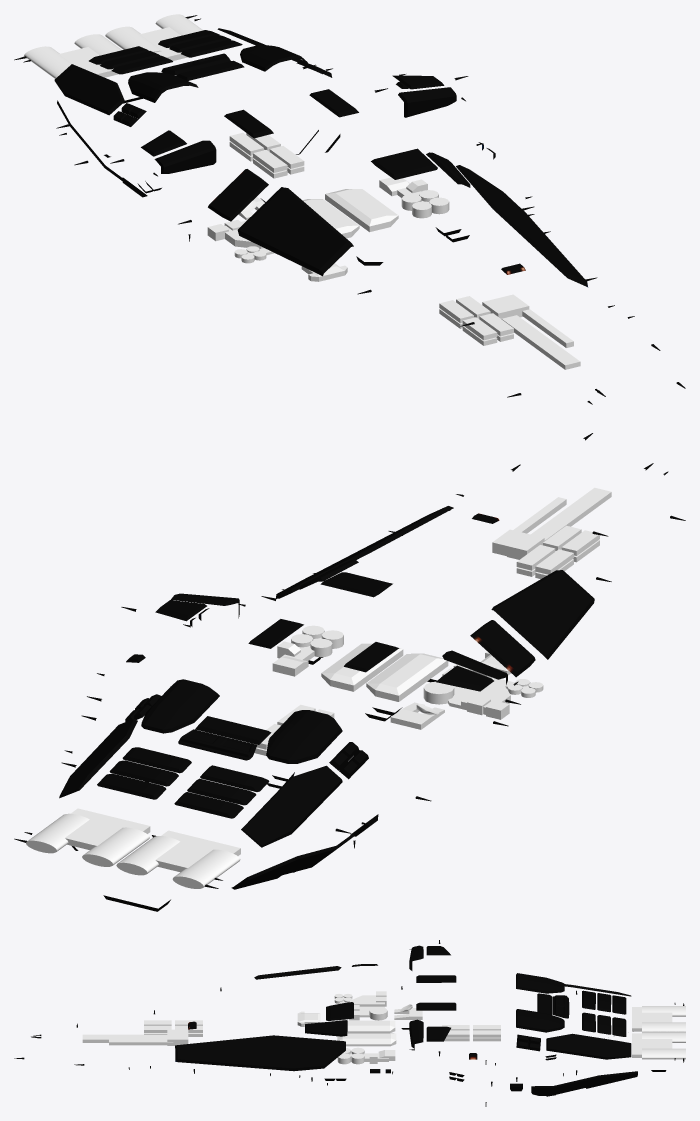
The model's file is hgn_fs_carr_04.glb.
The picture shows the model from 3 angles, top to bottom: view 1: azimuth 30°, elevation 25°; view 2: azimuth 150°, elevation 25°; view 3: azimuth 270°, elevation 25°; orthographic projection. The views are drawn at different scales.
Parts seen in each view (by area): view 1: hgn_fs_carrier_04_LOD0, StandardScanner_1_1, StandardEngine_1_3 (3), StandardEngine_1_3 (1), FleetReadyHangar_1_2, Refinery_1_2 (1), Factory_1_3 (1)!!!!!!!!, Storage_1_1 (5), Storage_1_1 (7), Storage_1_1 (6), FleetReadyHangar_1_2 (1), Storage_1_1 (1); view 2: hgn_fs_carrier_04_LOD0, StandardEngine_1_3 (1), StandardEngine_1_3 (3), StandardScanner_1_1, Factory_1_3 (1)!!!!!!!!, FleetReadyHangar_1_2 (1), Refinery_1_2 (1), FleetReadyHangar_1_2, Storage_1_1 (6), Storage_1_1 (7), Market_1_1; view 3: hgn_fs_carrier_04_LOD0, StandardEngine_1_3 (1), StandardEngine_1_3 (3), StandardScanner_1_1, Factory_1_3 (1)!!!!!!!!, FleetReadyHangar_1_2, Refinery_1_2 (1), FleetReadyHangar_1_2 (1), Storage_1_1 (1), Storage_1_1 (7), Storage_1_1 (5), Market_1_1 (+2 smaller).
Boxes of the visible parts, left/top/right/bottom form: hgn_fs_carrier_04_LOD0: left=14, top=15, right=685, bottom=404; StandardScanner_1_1: left=482, top=294, right=580, bottom=369; StandardEngine_1_3 (3): left=24, top=34, right=121, bottom=78; StandardEngine_1_3 (1): left=105, top=14, right=202, bottom=60; FleetReadyHangar_1_2: left=325, top=189, right=398, bottom=232; Refinery_1_2 (1): left=379, top=177, right=449, bottom=218; Factory_1_3 (1)!!!!!!!!: left=207, top=220, right=274, bottom=263; Storage_1_1 (5): left=253, top=146, right=304, bottom=178; Storage_1_1 (7): left=462, top=313, right=513, bottom=345; Storage_1_1 (6): left=439, top=296, right=490, bottom=328; FleetReadyHangar_1_2 (1): left=302, top=199, right=359, bottom=238; Storage_1_1 (1): left=229, top=132, right=280, bottom=161; hgn_fs_carrier_04_LOD0: left=14, top=433, right=685, bottom=911; StandardEngine_1_3 (1): left=26, top=808, right=150, bottom=866; StandardEngine_1_3 (3): left=116, top=830, right=240, bottom=888; StandardScanner_1_1: left=492, top=487, right=611, bottom=559; Factory_1_3 (1)!!!!!!!!: left=423, top=664, right=543, bottom=719; FleetReadyHangar_1_2 (1): left=366, top=653, right=448, bottom=701; Refinery_1_2 (1): left=272, top=625, right=343, bottom=676; FleetReadyHangar_1_2: left=321, top=643, right=403, bottom=691; Storage_1_1 (6): left=516, top=545, right=573, bottom=578; Storage_1_1 (7): left=543, top=525, right=599, bottom=562; Market_1_1: left=390, top=702, right=444, bottom=729; hgn_fs_carrier_04_LOD0: left=14, top=940, right=684, bottom=1106; StandardEngine_1_3 (1): left=632, top=1032, right=685, bottom=1059; StandardEngine_1_3 (3): left=632, top=1006, right=685, bottom=1032; StandardScanner_1_1: left=82, top=1029, right=188, bottom=1045; Factory_1_3 (1)!!!!!!!!: left=334, top=991, right=387, bottom=1020; FleetReadyHangar_1_2: left=337, top=1033, right=396, bottom=1046; Refinery_1_2 (1): left=337, top=1047, right=395, bottom=1064; FleetReadyHangar_1_2 (1): left=336, top=1020, right=395, bottom=1033; Storage_1_1 (1): left=473, top=1025, right=500, bottom=1041; Storage_1_1 (7): left=144, top=1020, right=171, bottom=1034; Storage_1_1 (5): left=442, top=1025, right=469, bottom=1041; Market_1_1: left=394, top=1004, right=422, bottom=1019.
Size of what is drawn, in the model's own units: 7.5 by 2.93 by 18.33.
Materials: 4 (1 with a texture image).
